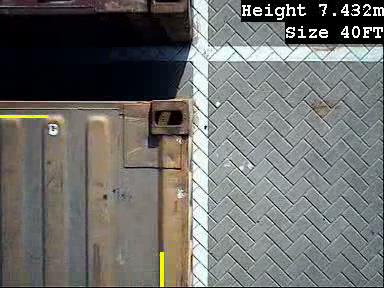groundmarker_2: (201, 8, 235, 74), (201, 179, 234, 245)
